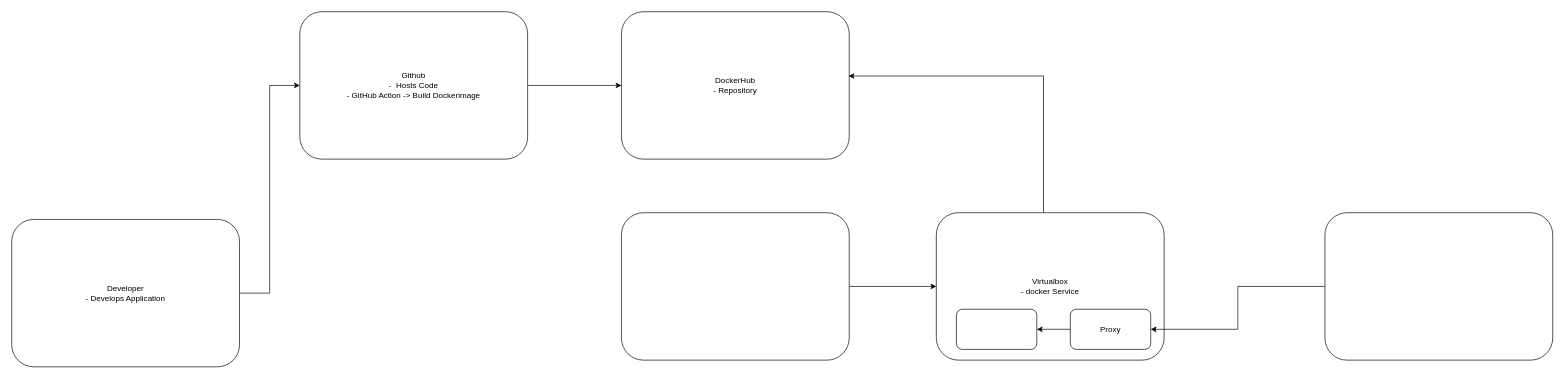
The diagram is 1564 pixels wide and 379 high, and some of its shapes have lost their labels. The shapes that lost their labels are listed below. From the top down, each one's box as (x1, y1, x2, y2) in pixels, then its label:
(621, 212, 849, 360): Windows Host - Vagrant
(1324, 212, 1553, 360): Customer - Can Access Project
(956, 309, 1037, 349): Webserver
